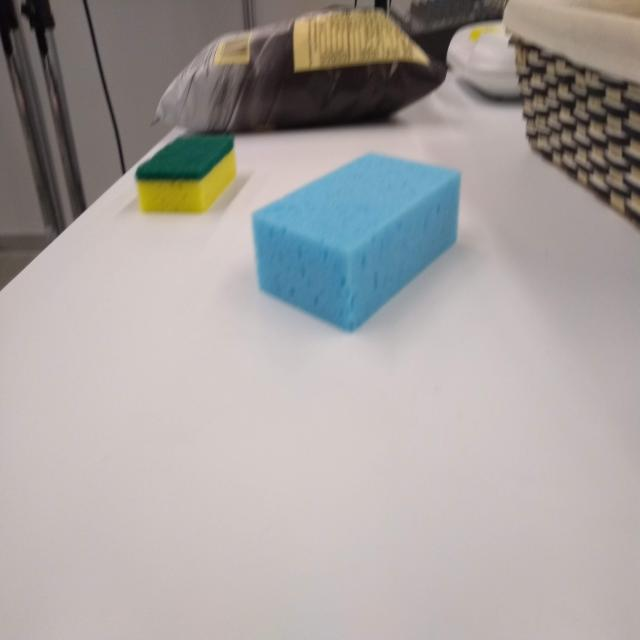potato_chips: (148, 6, 452, 138)
scrubby: (133, 129, 240, 219)
sponge_opl: (247, 147, 464, 339)
